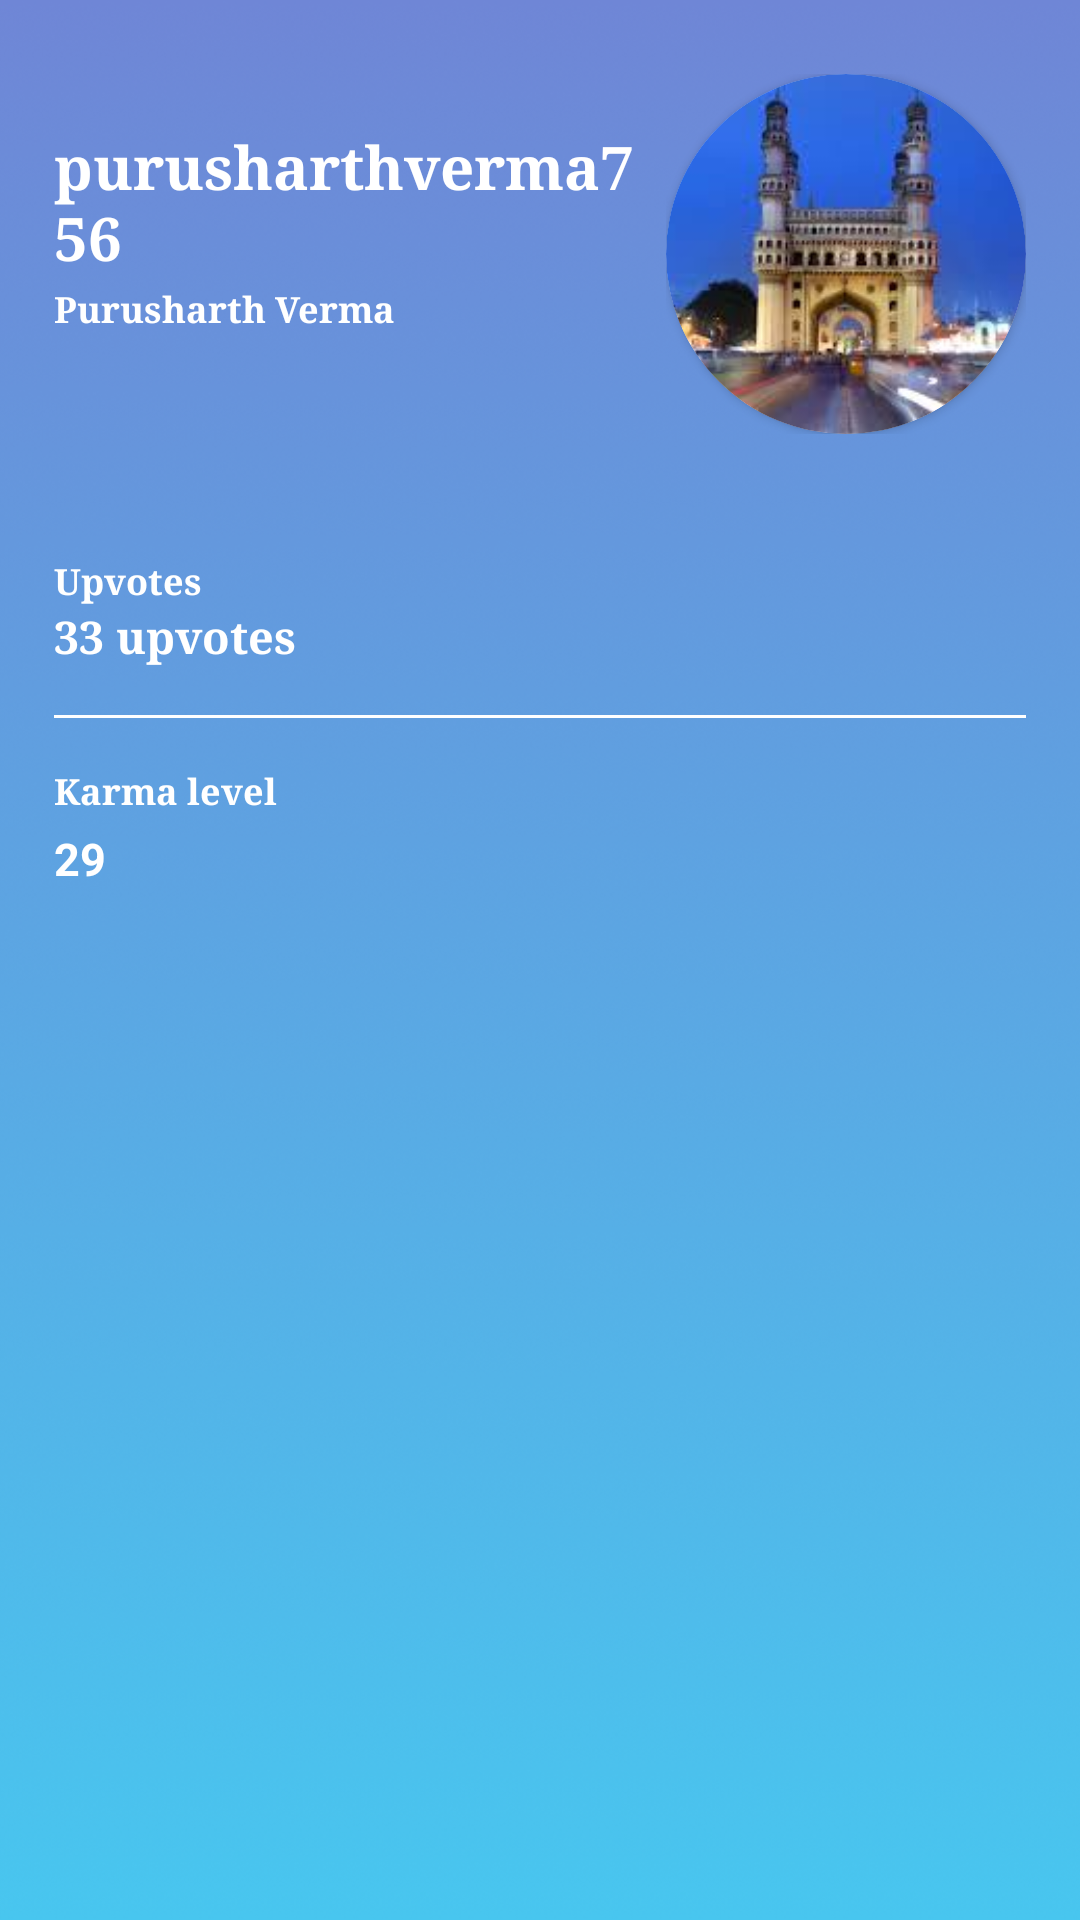

Where to tap for icons on this 1080w x 1920h app screen, as point (x, y):
hyderabad: point (846, 254)
